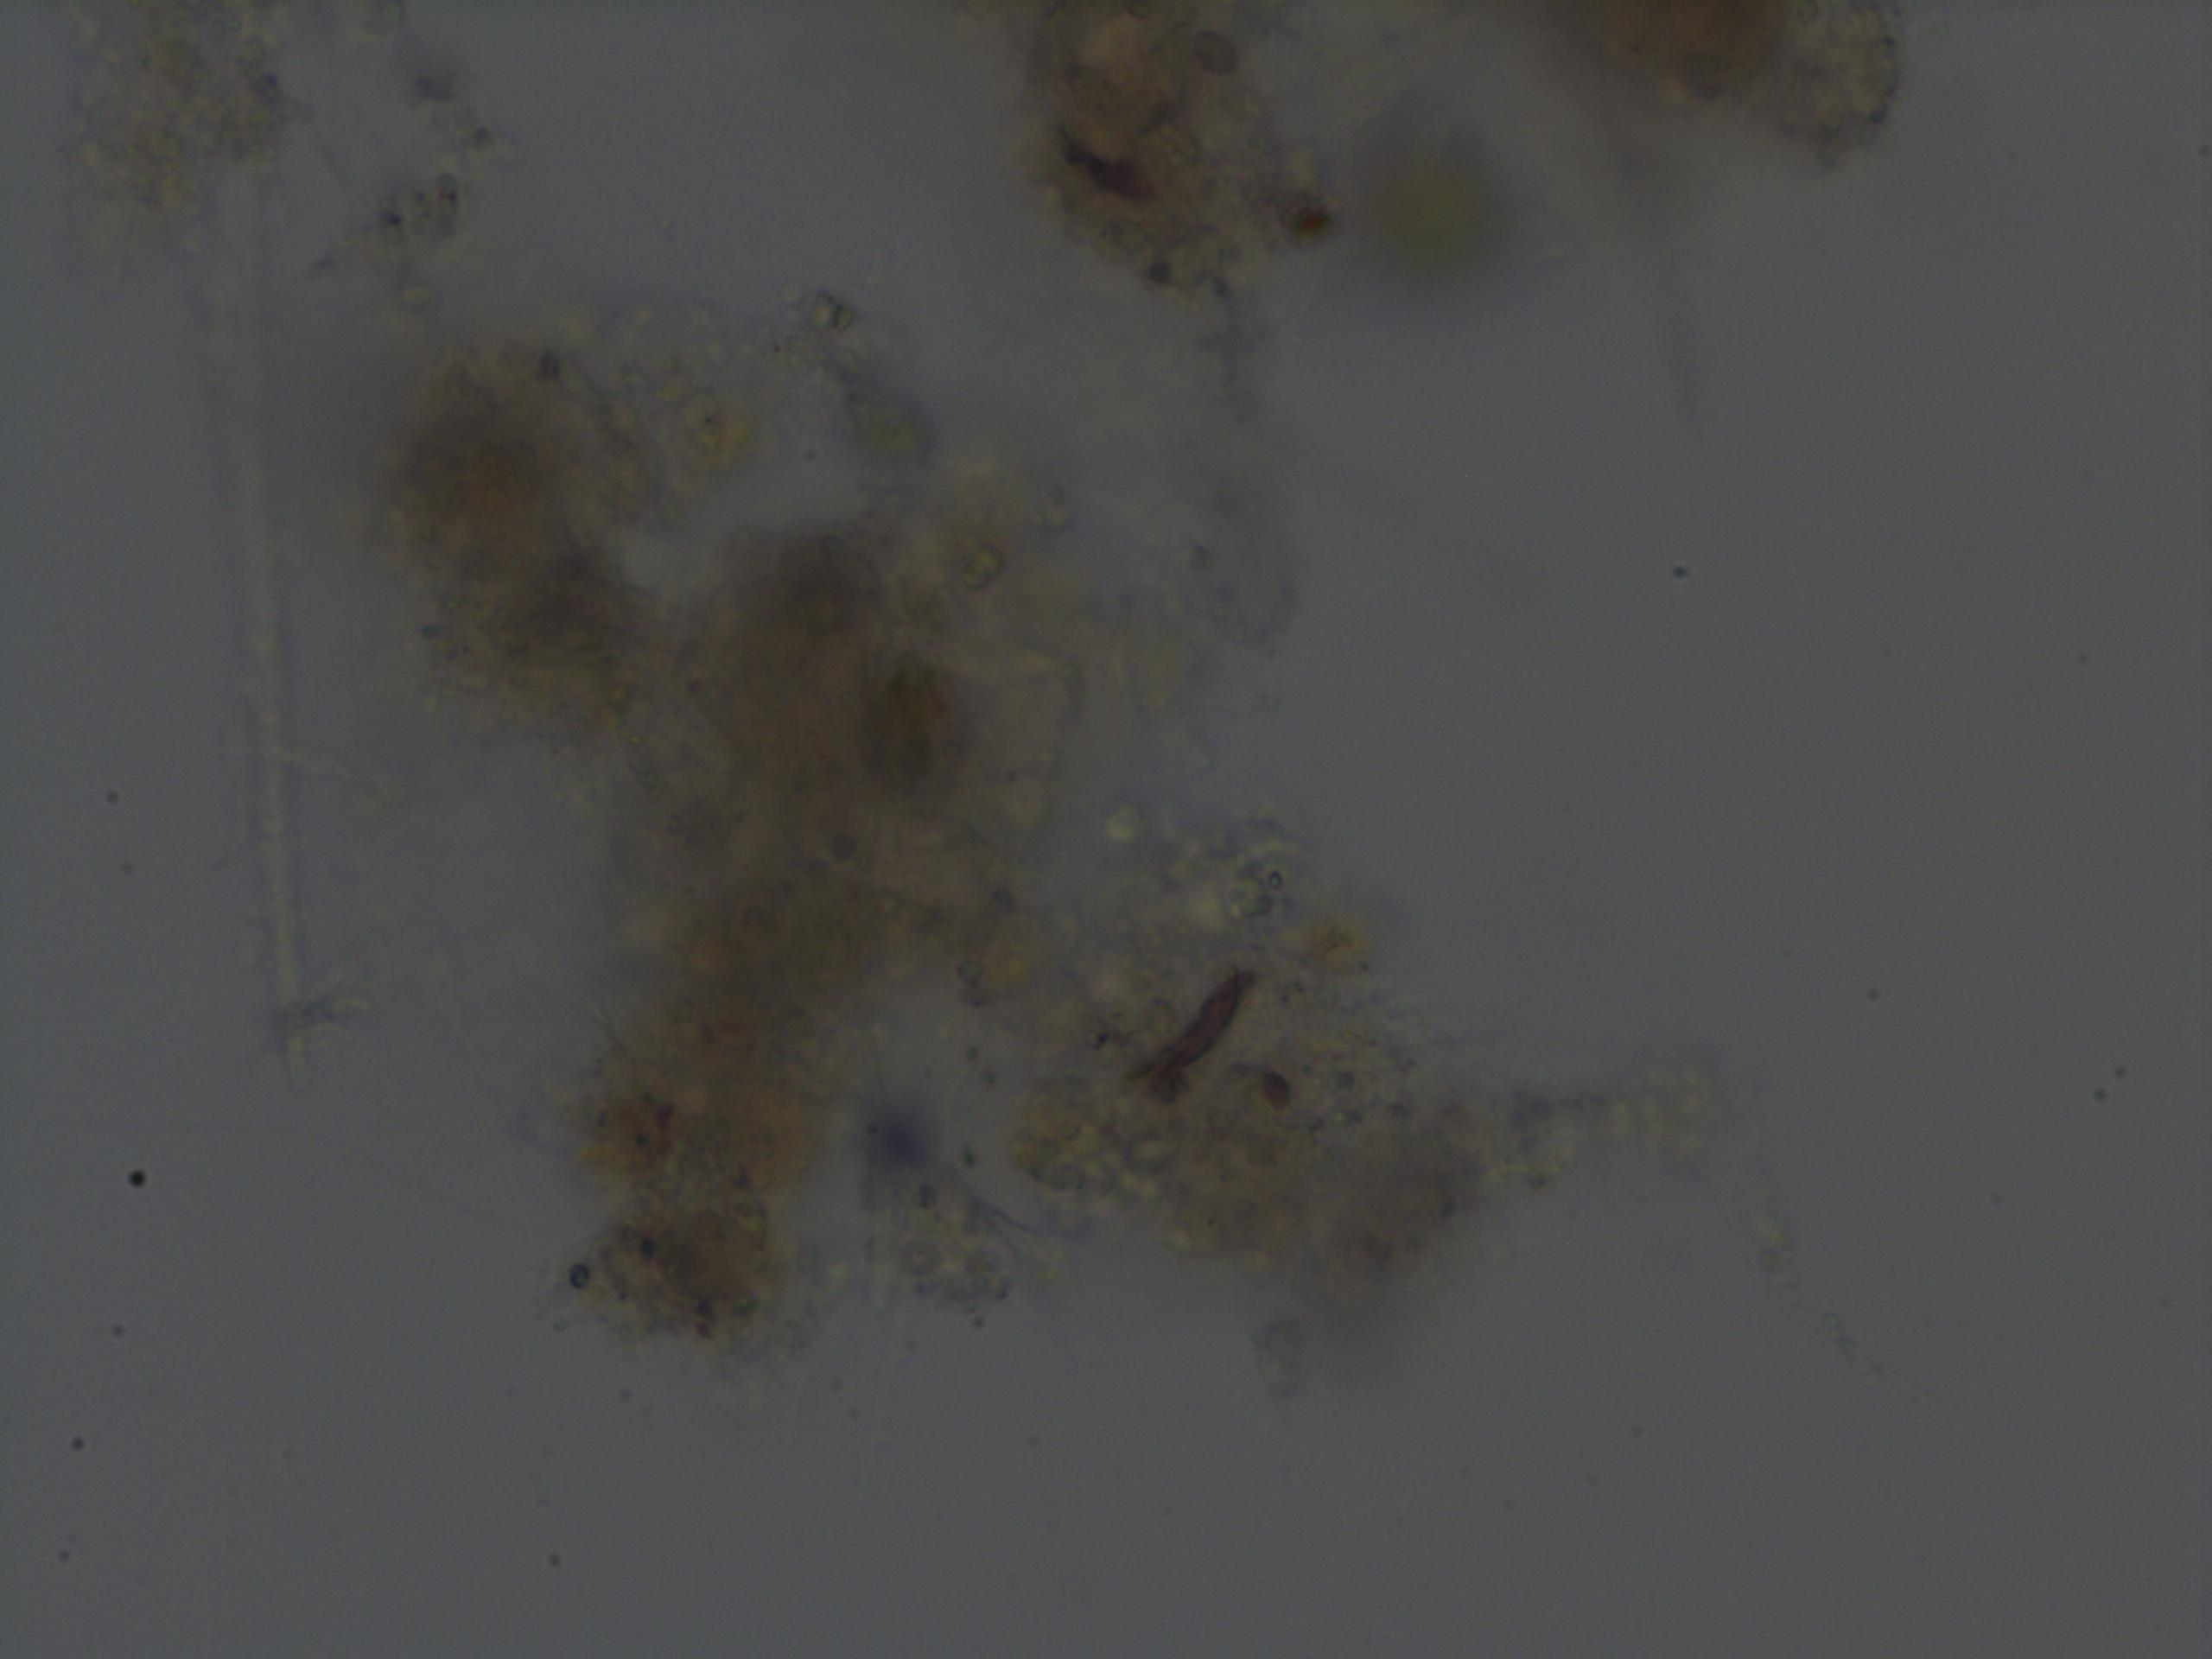filament: (150, 138, 383, 1087)
open_floc: (395, 275, 1761, 1408)
